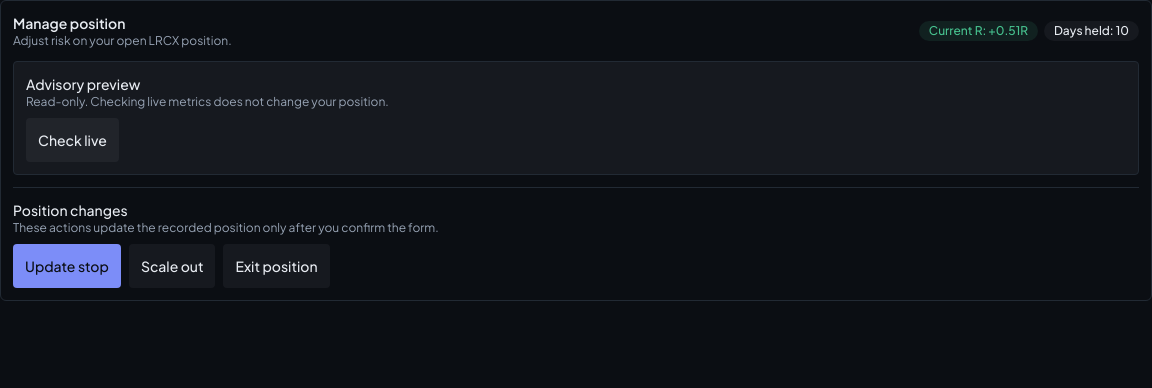
Test: ManagePositionPanel › shows a failed preview and retries it on the next Check live action
What coordinates should you click on to do the following:
click the button "Check live"
I would click on:
 (72, 140)
Its box is [26,118,119,162].
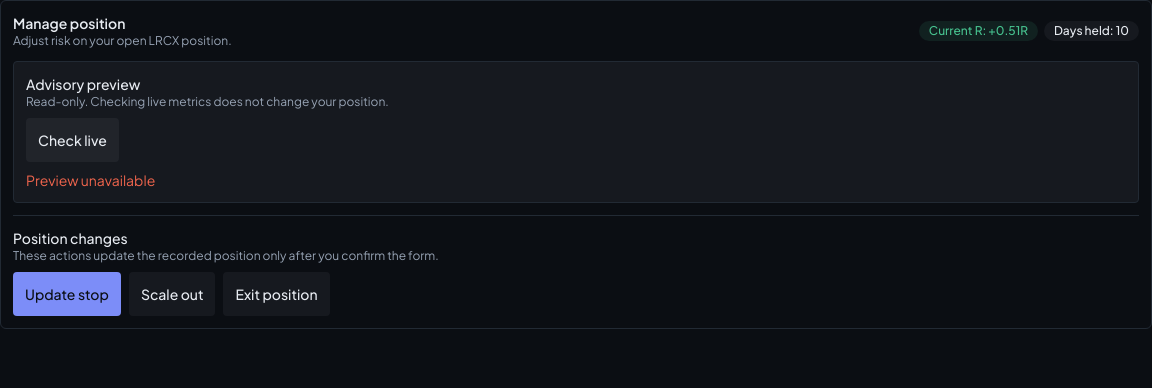
Check: the message reads "Preview unavailable", box [26,171,155,189]
What coordinates should you click on to do the following:
click the button "Check live"
I would click on:
 (72, 140)
Its box is [26,118,119,162].
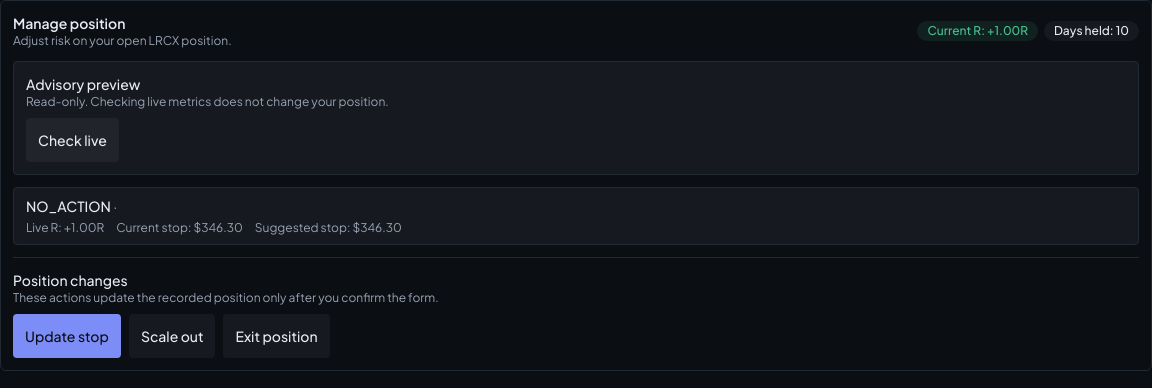
Check: the message "Preview unavailable" is gone
